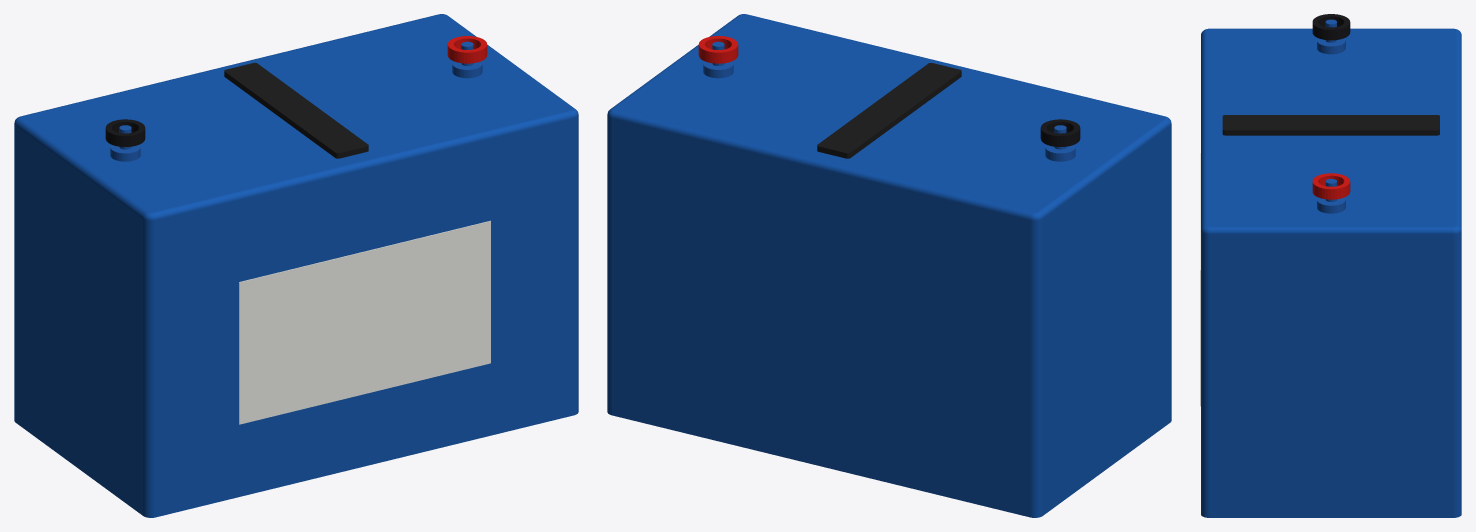
The model's file is LIB-BATT-24V-75AH.glb.
The picture shows the model from 3 angles, left to right: view 1: azimuth 30°, elevation 25°; view 2: azimuth 150°, elevation 25°; view 3: azimuth 270°, elevation 25°; orthographic projection. The views are drawn at different scales.
Size of the model in its own units: 330 by 240 by 181.
